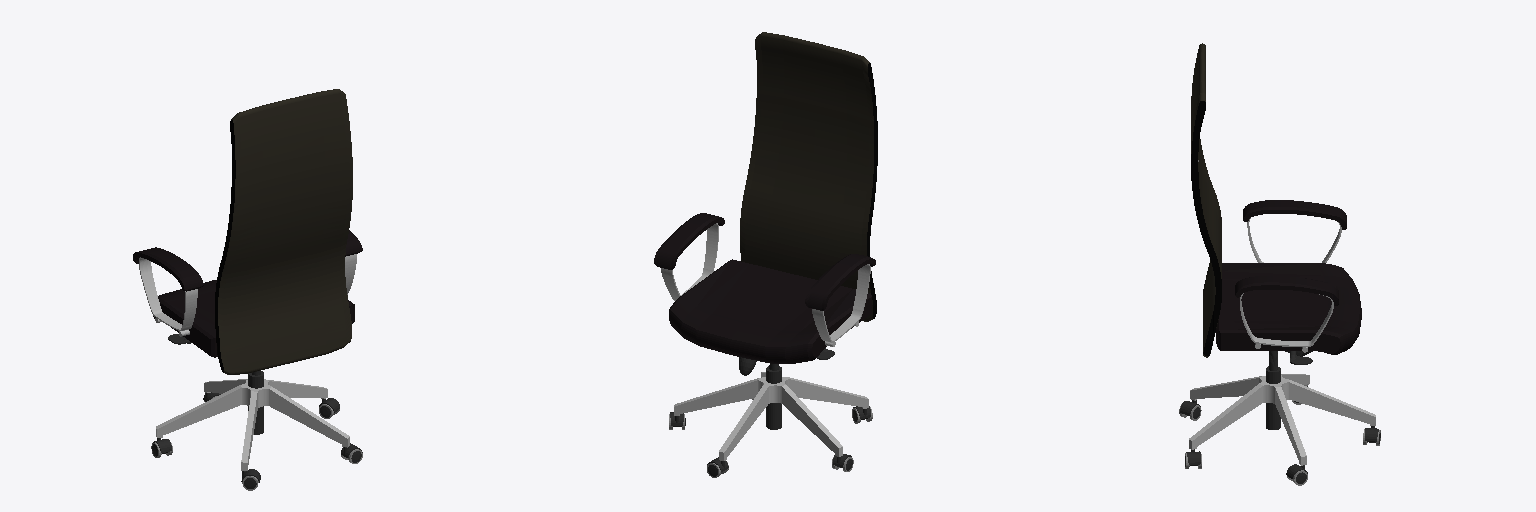
The picture shows the model from 3 angles: view 1: azimuth 30°, elevation 25°; view 2: azimuth 150°, elevation 25°; view 3: azimuth 270°, elevation 25°; orthographic projection.
Visible parts, largest first — view 1: Mesh1 Group1 Model, Mesh3 Group3 Model, Mesh6 Group6 Model, Mesh12 Group10 Armrest2 Model, Mesh13 Group11 Armrest2 Model; view 2: Mesh1 Group1 Model, Mesh6 Group6 Model, Mesh3 Group3 Model, Mesh13 Group11 Armrest2 Model, Mesh9 Group9 Armrest1 Model, Mesh12 Group10 Armrest2 Model, Mesh8 Group8 Armrest1 Model, Mesh2 Group2 Model; view 3: Mesh6 Group6 Model, Mesh3 Group3 Model, Mesh1 Group1 Model, Mesh9 Group9 Armrest1 Model, Mesh13 Group11 Armrest2 Model, Mesh2 Group2 Model, Mesh8 Group8 Armrest1 Model.
Part boxes in pixels (bbox=[...]): Mesh1 Group1 Model: bbox=[215, 89, 352, 374]; Mesh3 Group3 Model: bbox=[156, 379, 349, 470]; Mesh6 Group6 Model: bbox=[153, 280, 354, 357]; Mesh12 Group10 Armrest2 Model: bbox=[139, 257, 197, 330]; Mesh13 Group11 Armrest2 Model: bbox=[133, 247, 203, 291]; Mesh1 Group1 Model: bbox=[740, 32, 877, 321]; Mesh6 Group6 Model: bbox=[669, 259, 871, 363]; Mesh3 Group3 Model: bbox=[674, 372, 868, 460]; Mesh13 Group11 Armrest2 Model: bbox=[805, 254, 875, 310]; Mesh9 Group9 Armrest1 Model: bbox=[654, 213, 724, 269]; Mesh12 Group10 Armrest2 Model: bbox=[812, 264, 870, 342]; Mesh8 Group8 Armrest1 Model: bbox=[661, 223, 718, 300]; Mesh2 Group2 Model: bbox=[766, 364, 781, 429]; Mesh6 Group6 Model: bbox=[1216, 263, 1361, 354]; Mesh3 Group3 Model: bbox=[1189, 374, 1375, 465]; Mesh1 Group1 Model: bbox=[1191, 43, 1221, 357]; Mesh9 Group9 Armrest1 Model: bbox=[1235, 276, 1338, 305]; Mesh13 Group11 Armrest2 Model: bbox=[1243, 200, 1346, 229]; Mesh2 Group2 Model: bbox=[1266, 351, 1280, 429]; Mesh8 Group8 Armrest1 Model: bbox=[1240, 293, 1333, 346].
Bounding box in the file's own units: 0.4524 × 0.8816 × 0.4315.